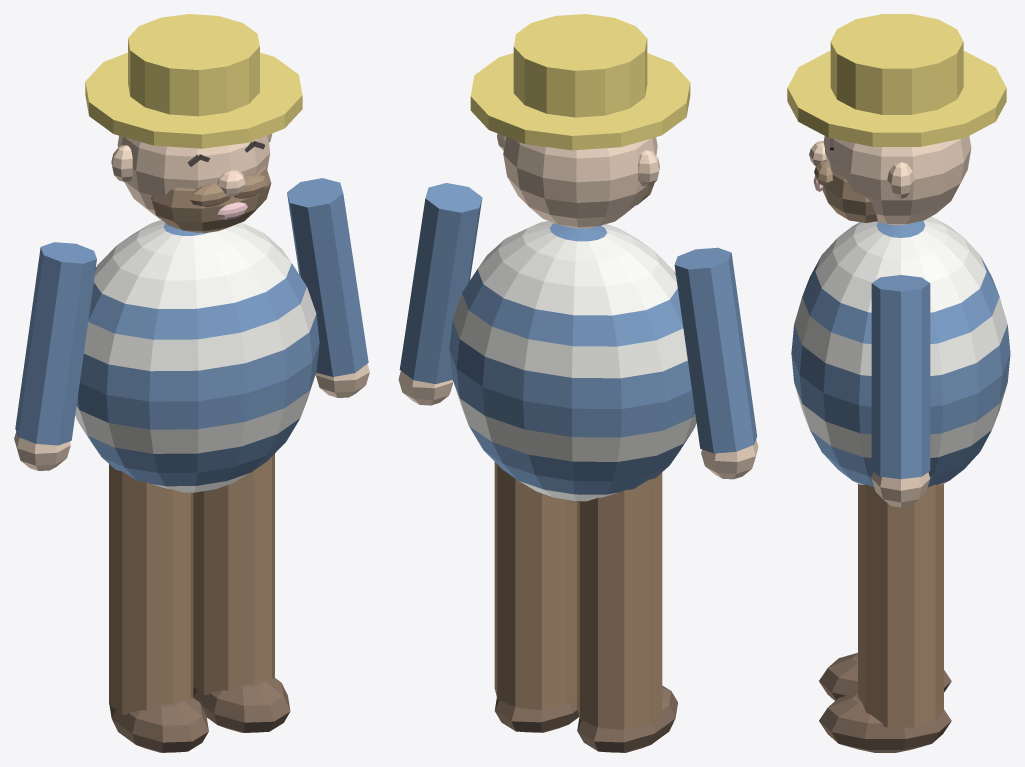
The model's file is Merchant.fbx.
The picture shows the model from 3 angles, left to right: view 1: azimuth 30°, elevation 25°; view 2: azimuth 150°, elevation 25°; view 3: azimuth 270°, elevation 25°; orthographic projection.
Visible parts, largest first — view 1: Merchant_Model; view 2: Merchant_Model; view 3: Merchant_Model.
Part boxes in pixels (x1,y1,x2,y2): Merchant_Model: [14, 14, 369, 752]; Merchant_Model: [398, 14, 758, 752]; Merchant_Model: [787, 14, 1010, 752].
Size of the model in its own units: 1.03 by 1.94 by 0.57.
